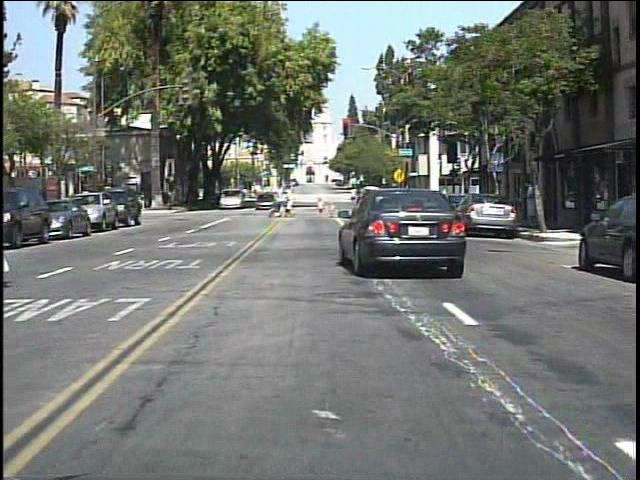person: (519, 174, 543, 229), (285, 183, 301, 221)
